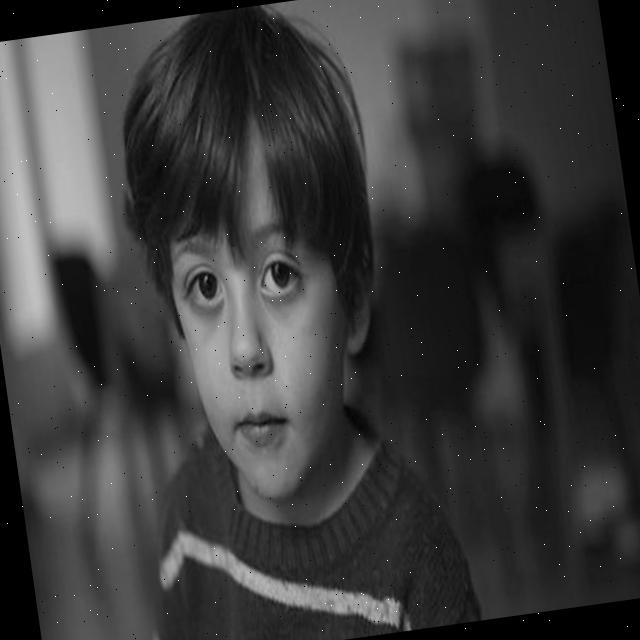Neutral: (150, 112, 370, 512)
